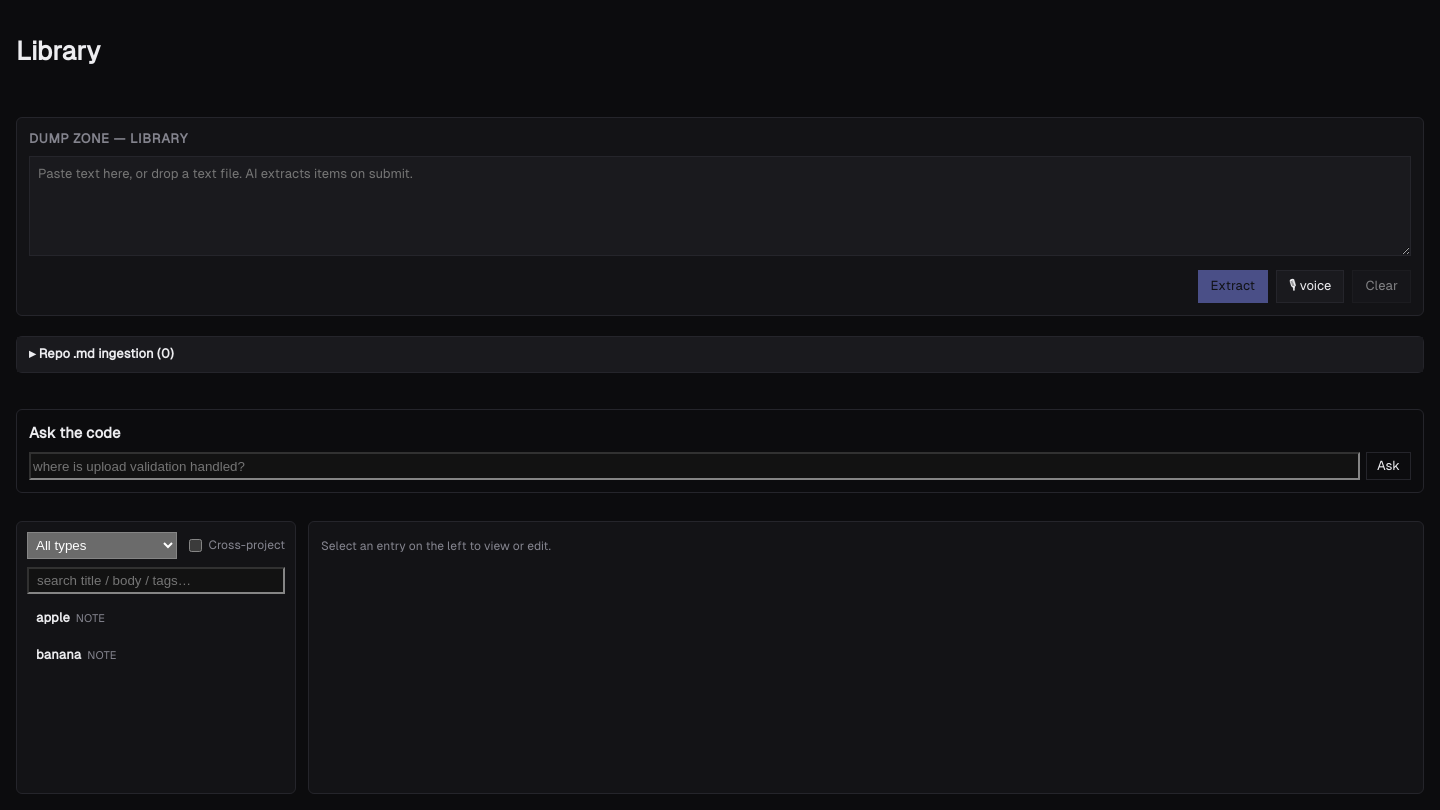
Scenario: LibraryView › search input debounces and routes to the FTS endpoint
expect the text "apple" is shown: met, box 36,610 -> 70,626
Type "banana" into the search field with test id "library-search-input" at (156, 581), box 27,568 -> 285,594
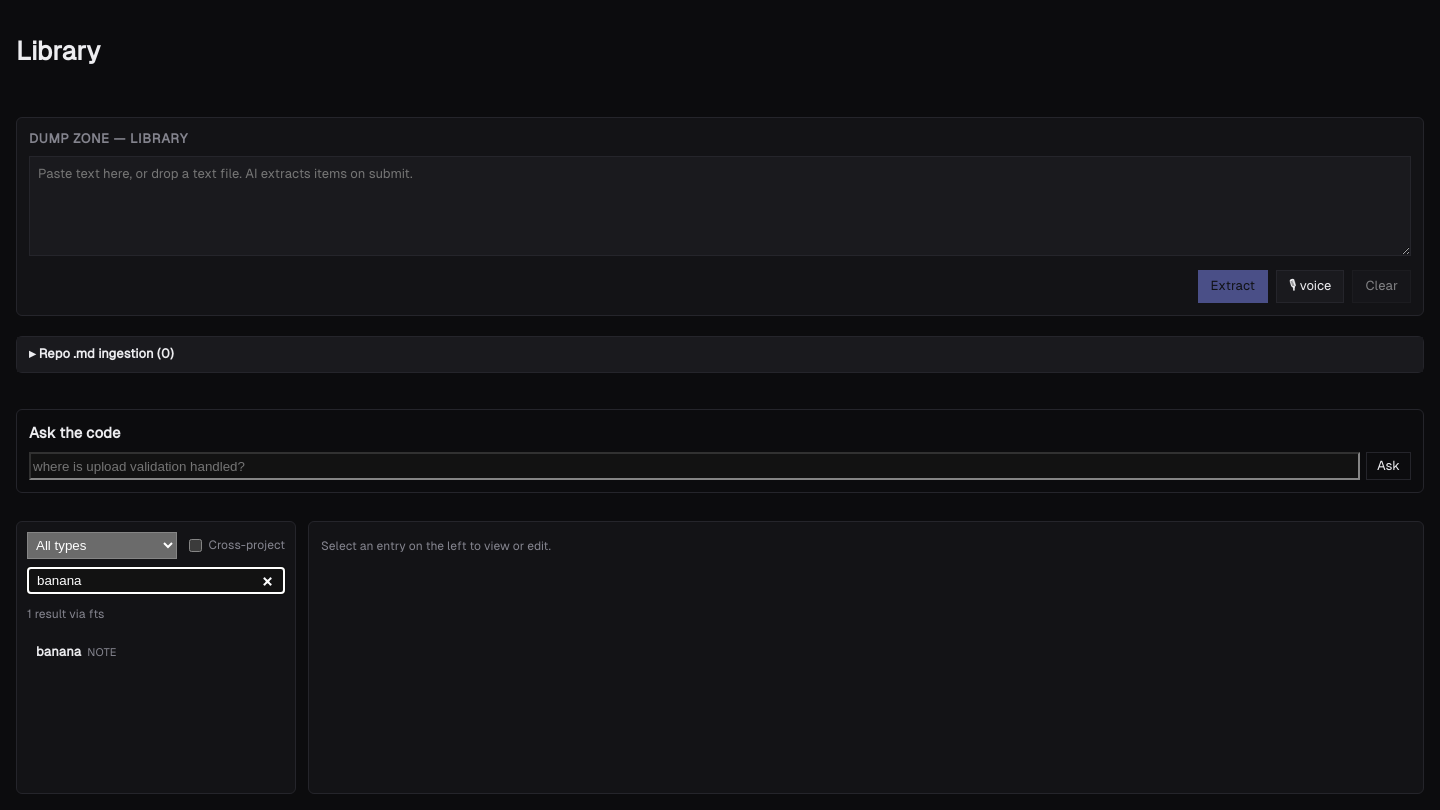
expect the text "banana" is shown: met, box 36,644 -> 81,659
expect the text "apple" is gone: met
